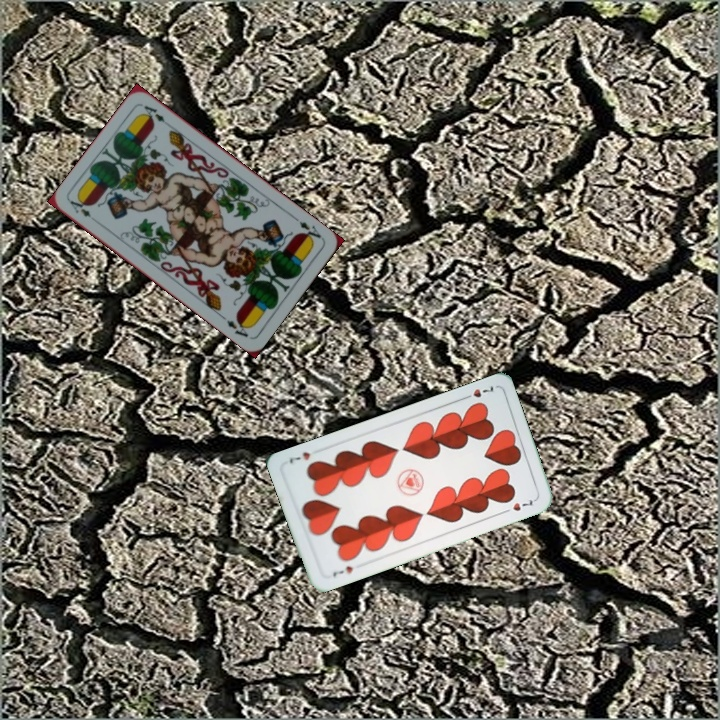EA: (295, 217, 325, 245), (66, 195, 94, 220)
H7: (458, 382, 496, 402), (329, 562, 355, 579)
